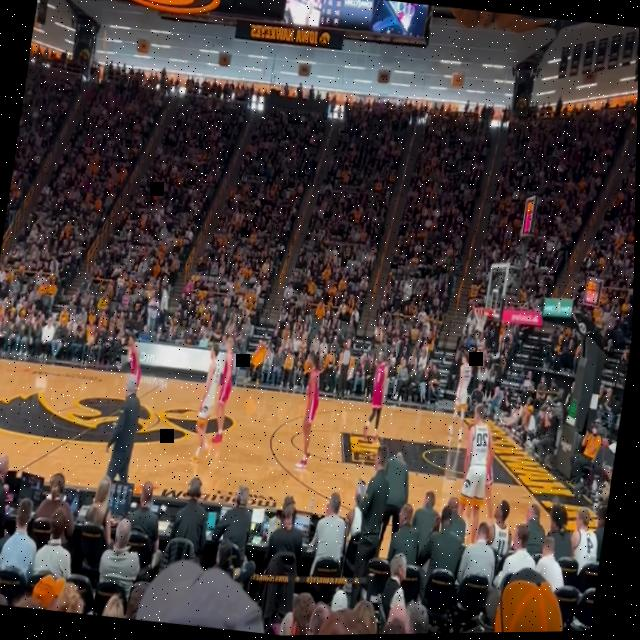basket: (471, 308, 491, 334)
game clock: (588, 282, 598, 293)
head coach: (103, 371, 146, 484)
player-iowa: (455, 404, 503, 550), (190, 342, 227, 465), (448, 352, 476, 445)
player-neb: (455, 423, 509, 539), (295, 354, 327, 471), (213, 337, 241, 444), (363, 352, 393, 443), (122, 333, 148, 398)
referee: (335, 338, 357, 402)
shot clock: (588, 292, 597, 305)
